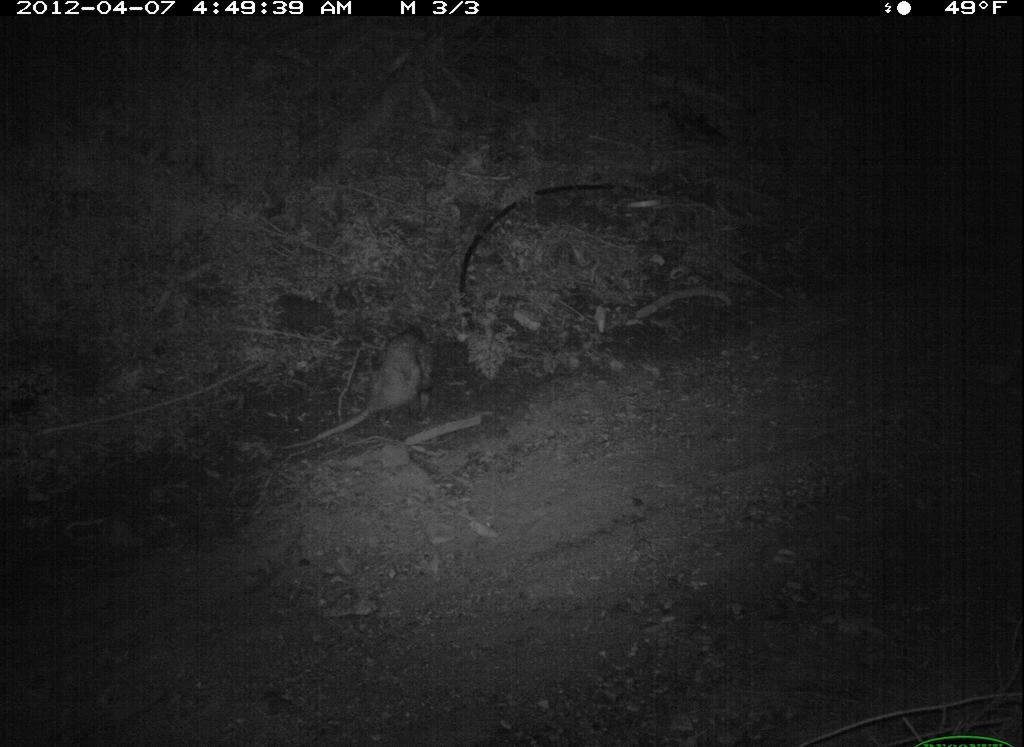opossum: (277, 317, 459, 465)
